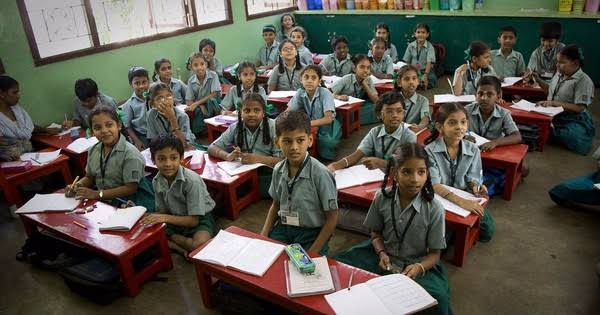student: (389, 141, 437, 193), (272, 114, 317, 166), (146, 135, 188, 178), (85, 102, 127, 145), (430, 105, 467, 147), (474, 73, 505, 116), (463, 35, 495, 74), (377, 95, 409, 133), (391, 64, 427, 97), (551, 44, 583, 78), (236, 94, 268, 127), (72, 75, 105, 107), (299, 61, 326, 94), (537, 21, 566, 51), (276, 39, 304, 70), (231, 59, 260, 88), (146, 85, 174, 115), (125, 65, 151, 97), (301, 60, 321, 98), (492, 27, 520, 54), (195, 40, 223, 66), (330, 31, 354, 61), (183, 54, 209, 79), (413, 21, 437, 48), (151, 59, 181, 80), (349, 48, 369, 79), (365, 33, 387, 61), (373, 18, 394, 46), (275, 12, 301, 33), (258, 23, 281, 44), (289, 26, 307, 48)
